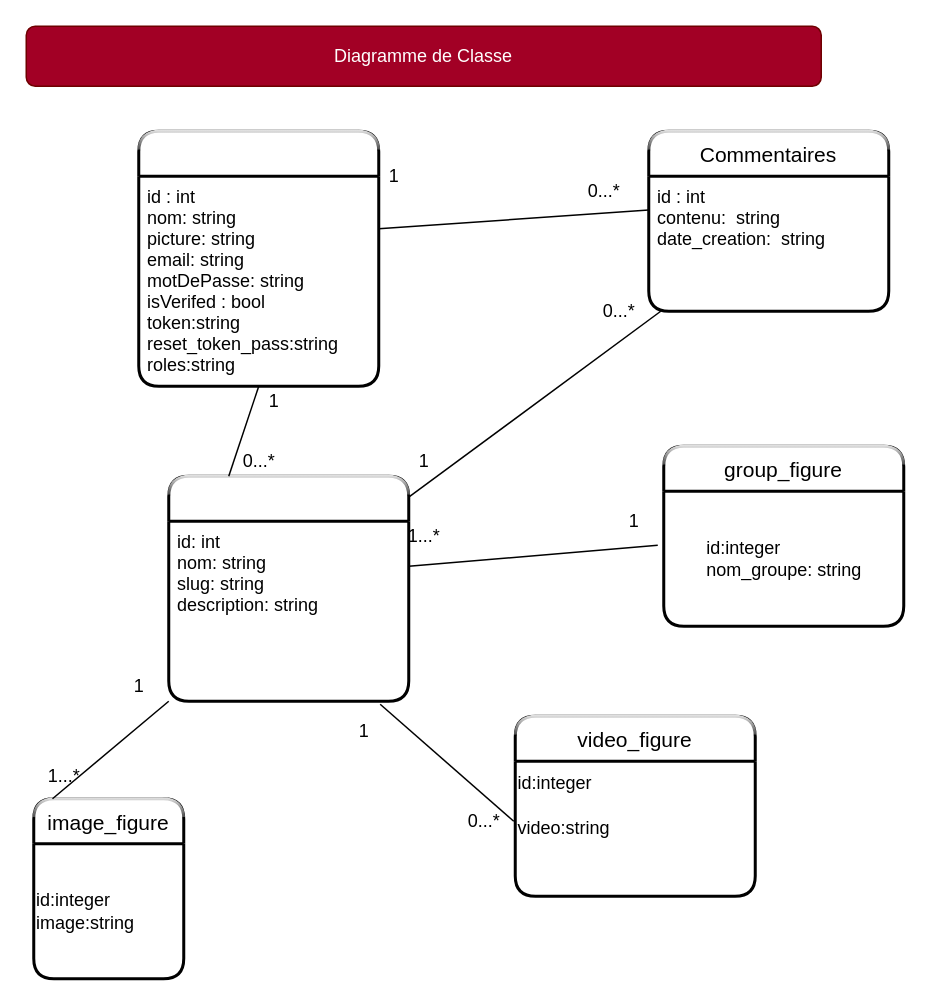
The diagram is 932 pixels wide and 1007 high, and some of its shapes have lost their labels. The shapes that lost their labels are listed below. From the top down, each one's box as (x1, y1, x2, y2) in pixels, then its label:
(136, 129, 380, 387): Utilisateurs
(166, 474, 410, 702): figure
